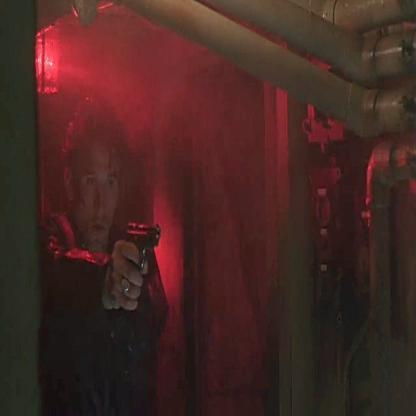gun: (128, 195, 164, 282)
